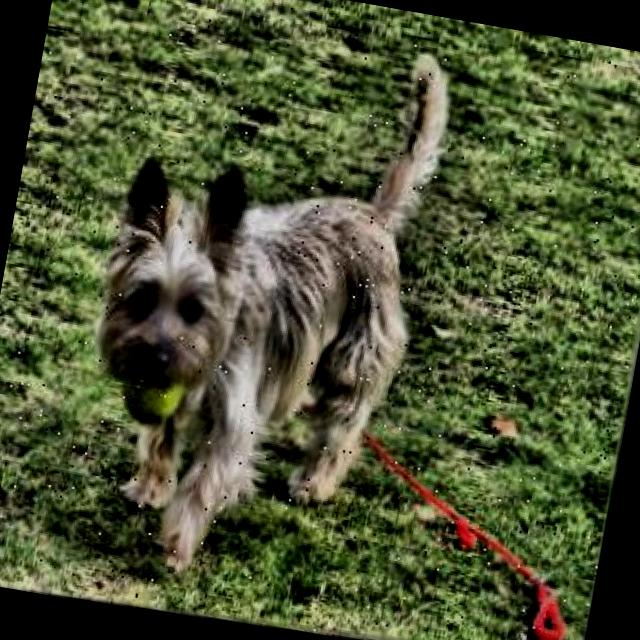Tennis Ball: (117, 369, 184, 430)
